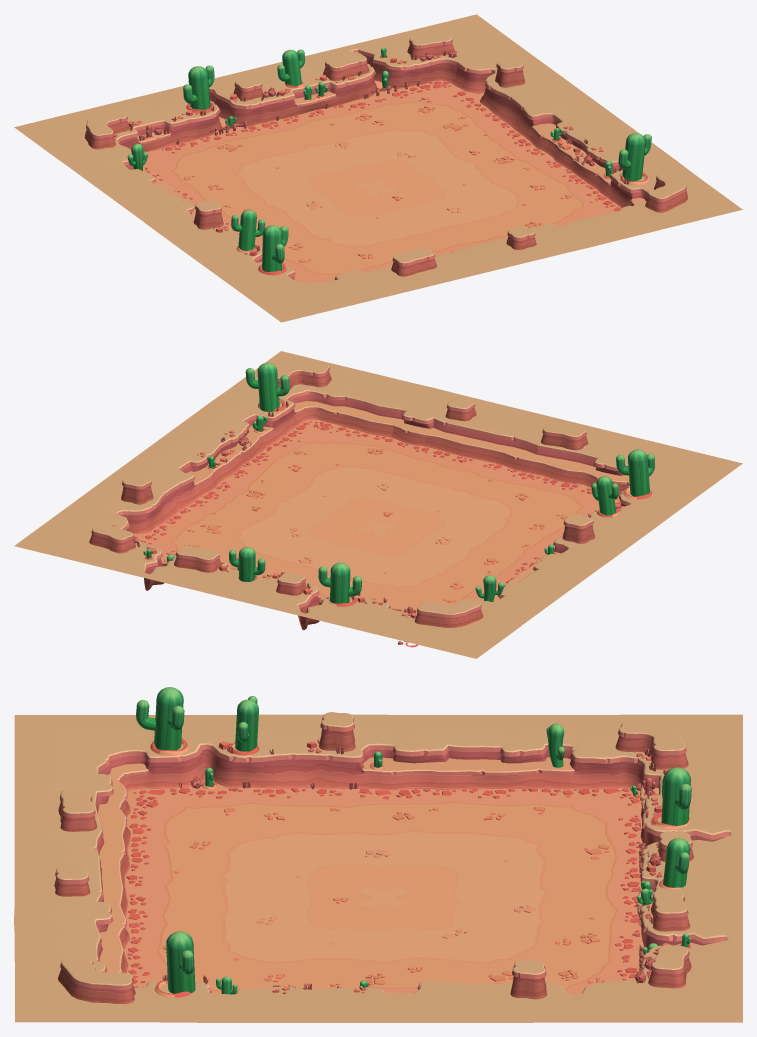
Rendered from Arena.fbx.
3 views of the same model, one above another, from view 1: azimuth 30°, elevation 25°; view 2: azimuth 150°, elevation 25°; view 3: azimuth 270°, elevation 25° (orthographic). The views are drawn at different scales.
Visible parts, largest first — view 1: Plane_028-mesh_cms; view 2: Plane_028-mesh_cms; view 3: Plane_028-mesh_cms.
Part boxes in pixels (x1,y1,x2,y2): Plane_028-mesh_cms: [14, 14, 742, 322]; Plane_028-mesh_cms: [14, 351, 742, 658]; Plane_028-mesh_cms: [14, 687, 742, 1022].
Size of the model in its own units: 47.11 by 6.6 by 47.11.
2 materials, 2 textured.
